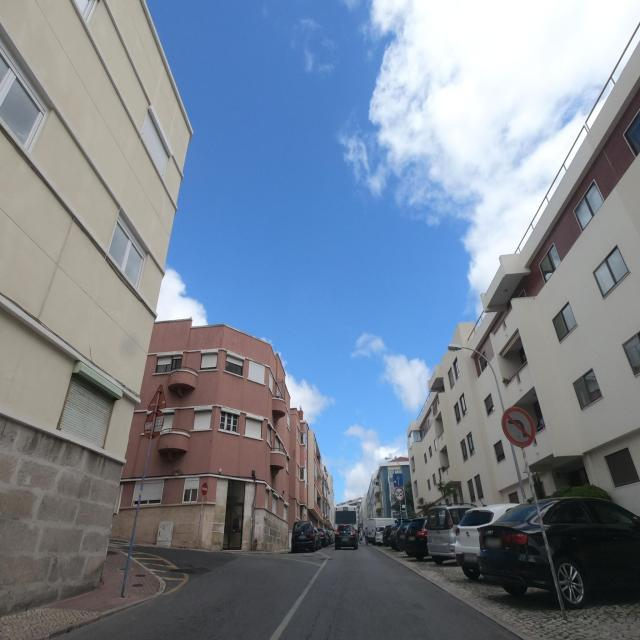car: (478, 496, 640, 610), (454, 503, 522, 581), (426, 503, 480, 565), (402, 517, 428, 559), (290, 519, 320, 553), (334, 523, 358, 550), (316, 528, 328, 547), (326, 528, 334, 544)
